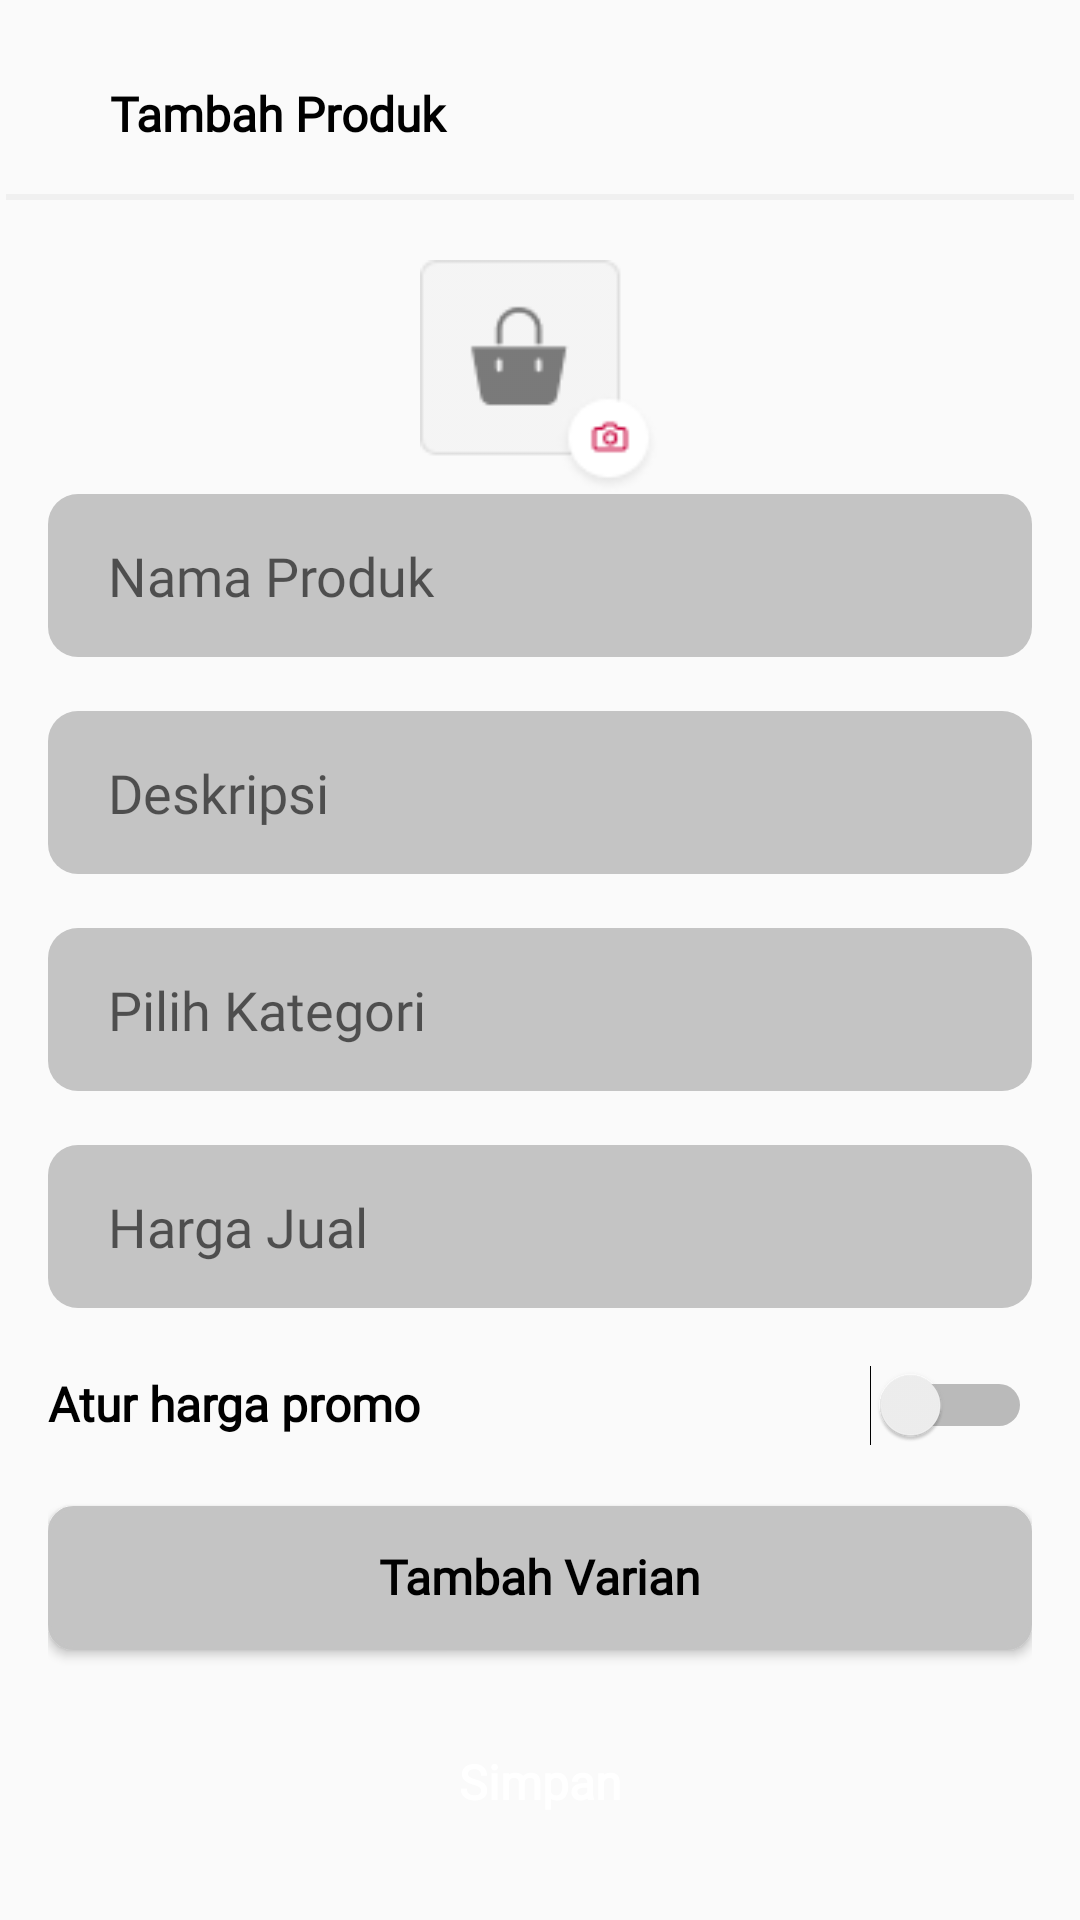

Where icons sit on this 1080 x 1920 app screen, as rect(x1, y1, x2, y2):
gambar barang: rect(420, 260, 629, 455)
